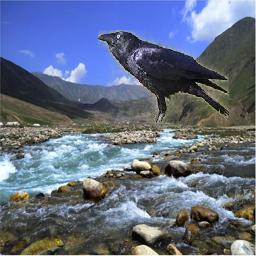Crow: (99, 30, 230, 124)
